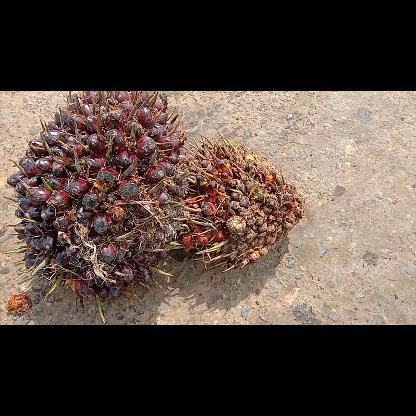Kurang masak: (3, 91, 195, 323)
TBS abnormal: (172, 132, 304, 272)
